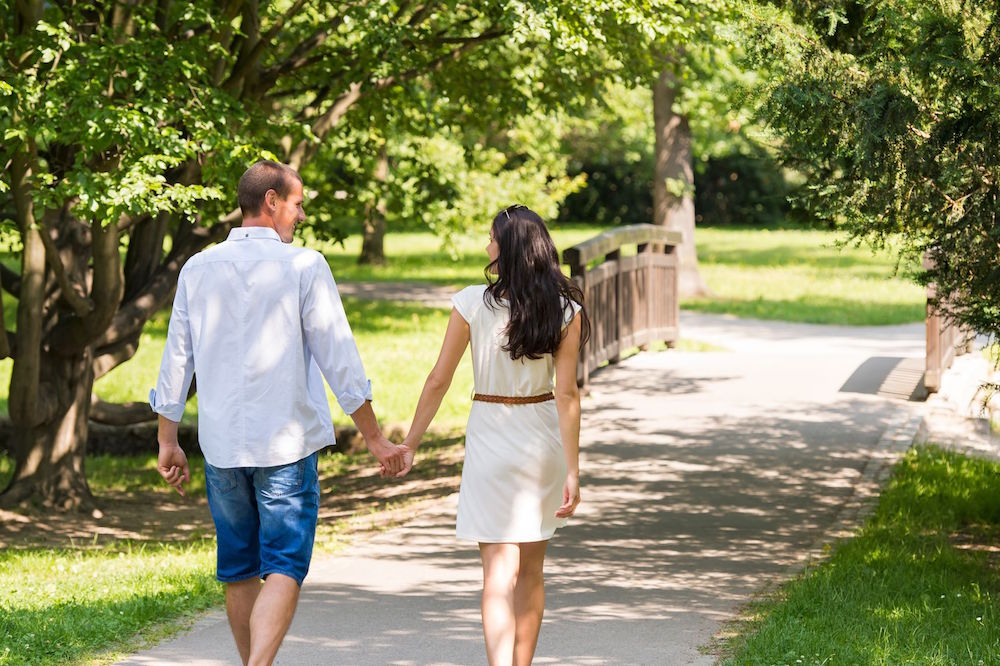Person: (144, 153, 415, 666), (381, 196, 619, 666)
